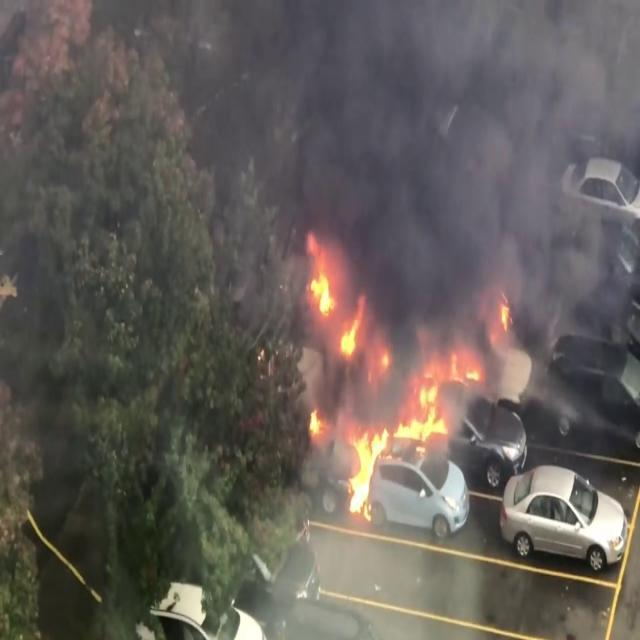Fire: (292, 268, 484, 503), (304, 247, 363, 364)
Smoke: (228, 0, 639, 348)
